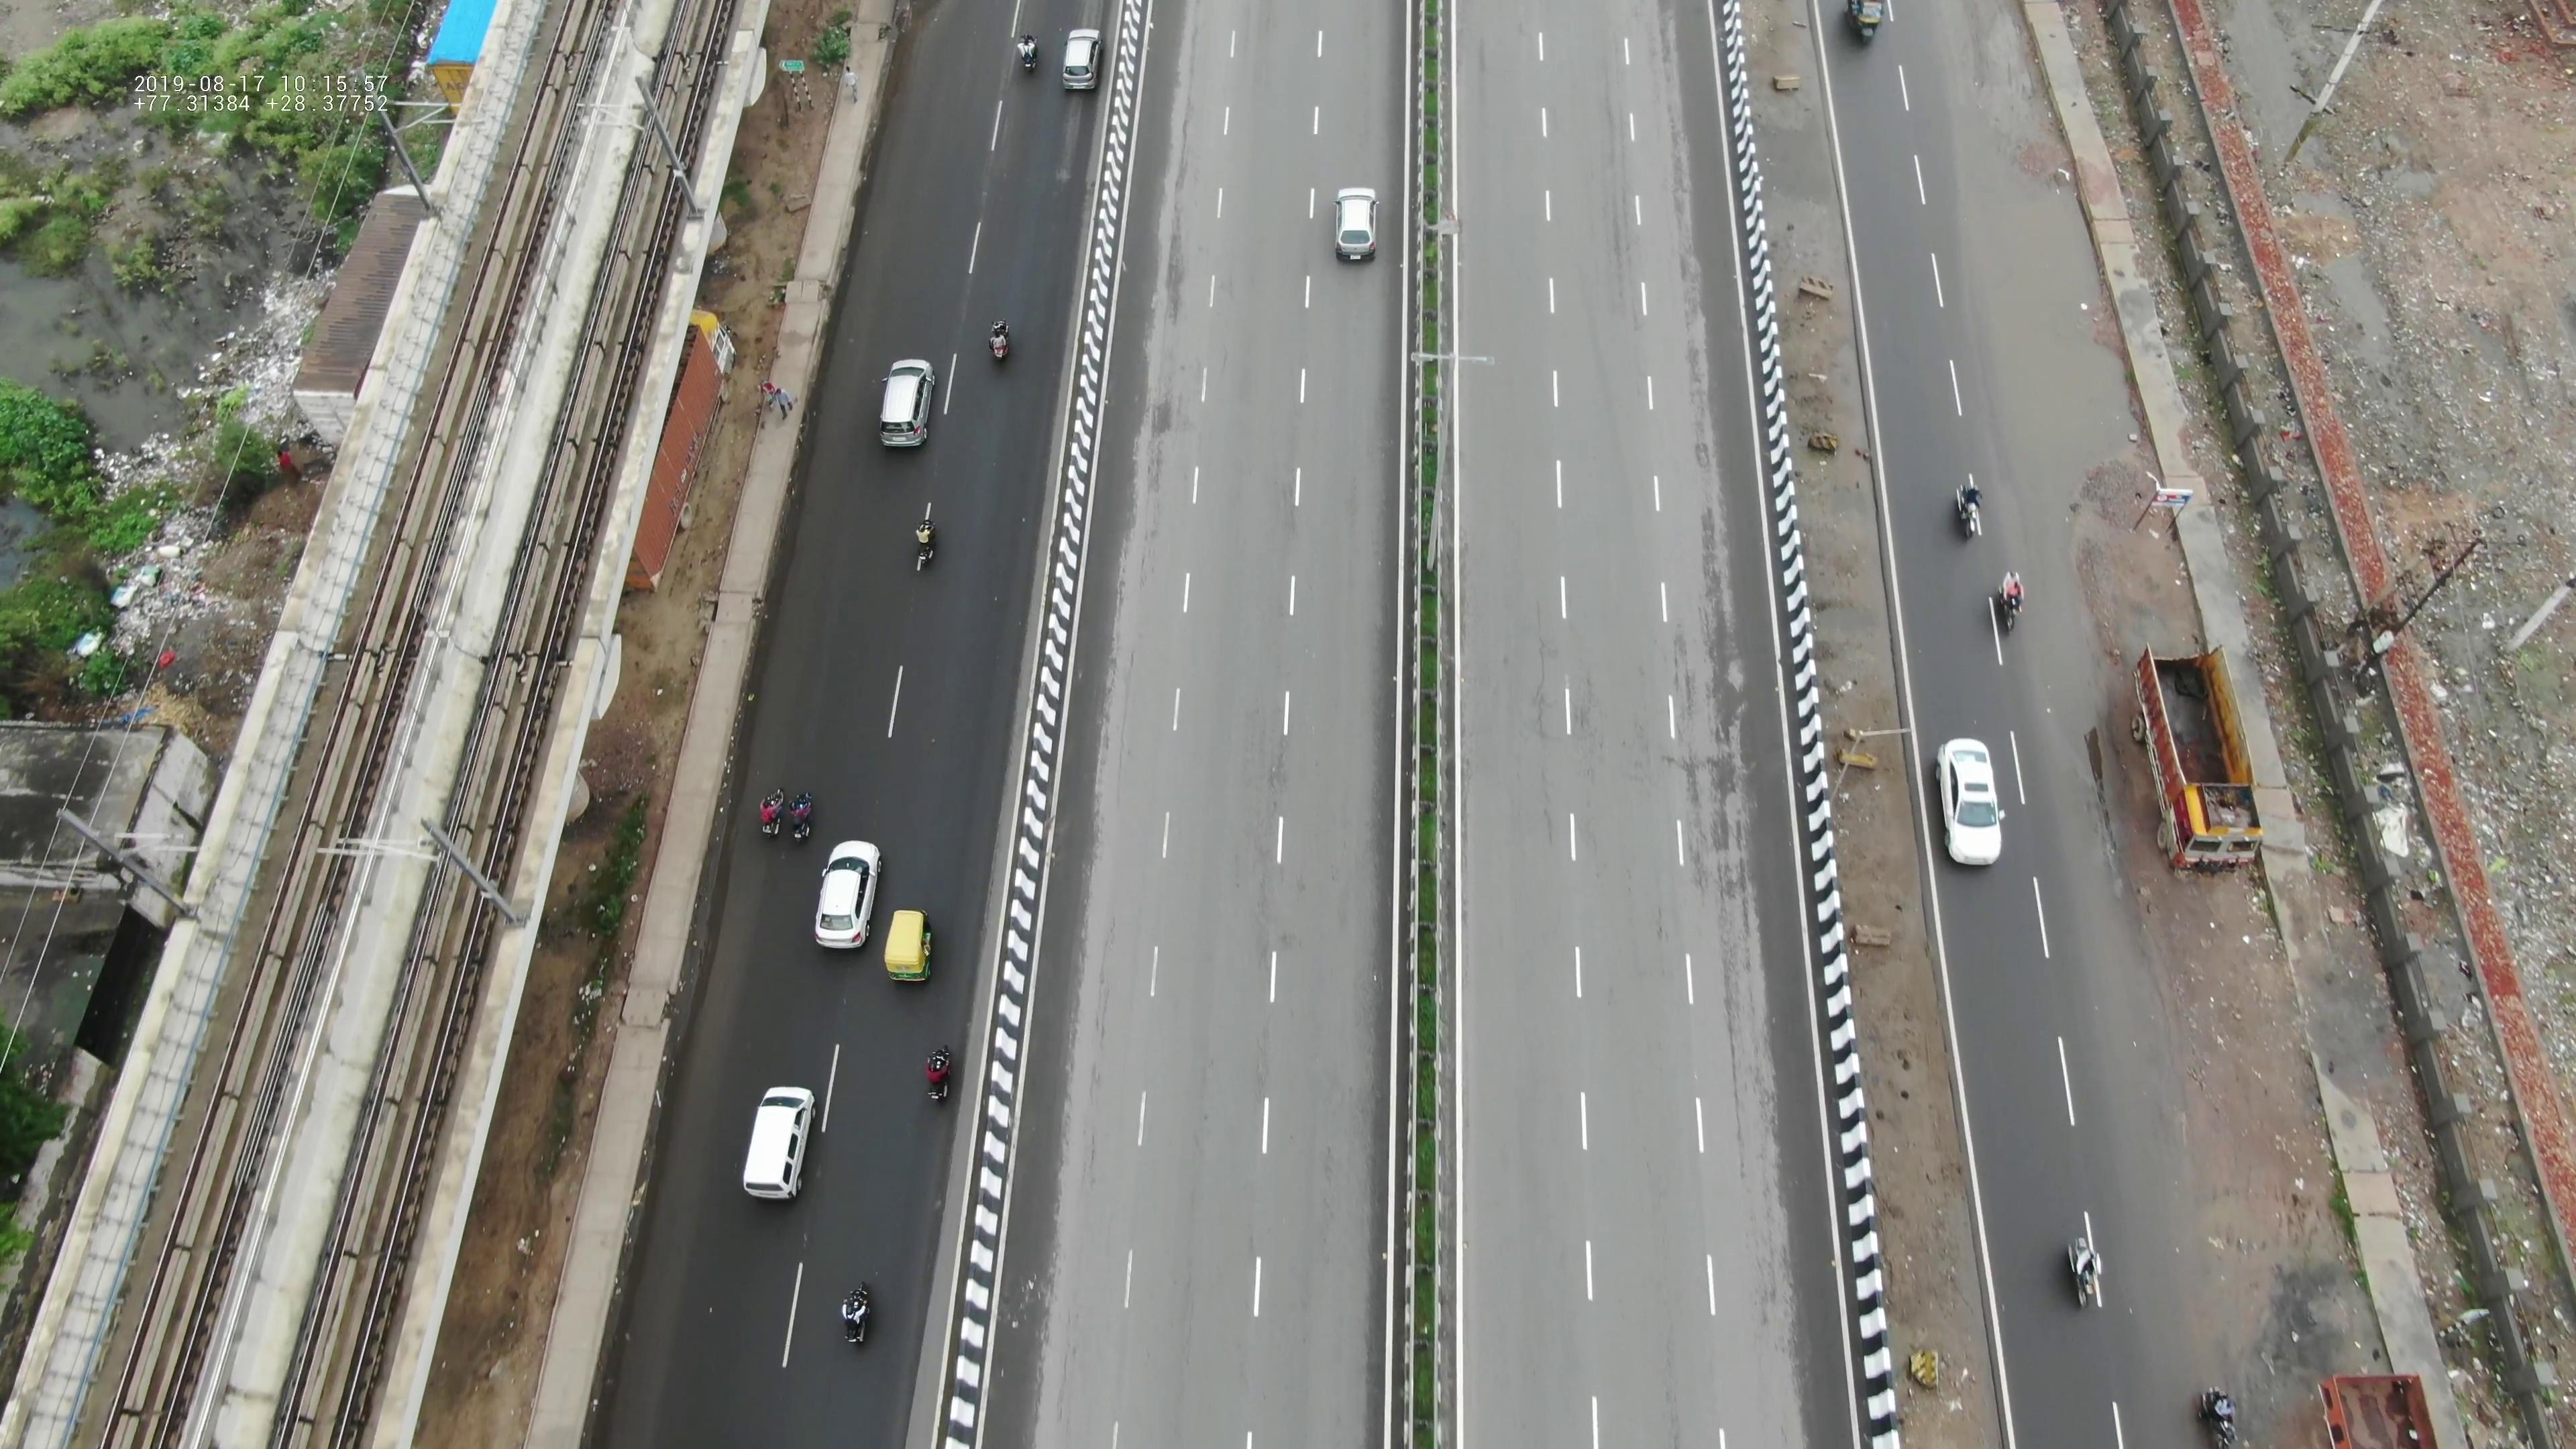Hair_cracks: (1516, 577, 1605, 878)
Muddy_road: (2065, 886, 2286, 1205), (1905, 5, 2038, 161)
Ravelling: (1672, 536, 1752, 938)
Waterlogging: (1955, 180, 2121, 485)
